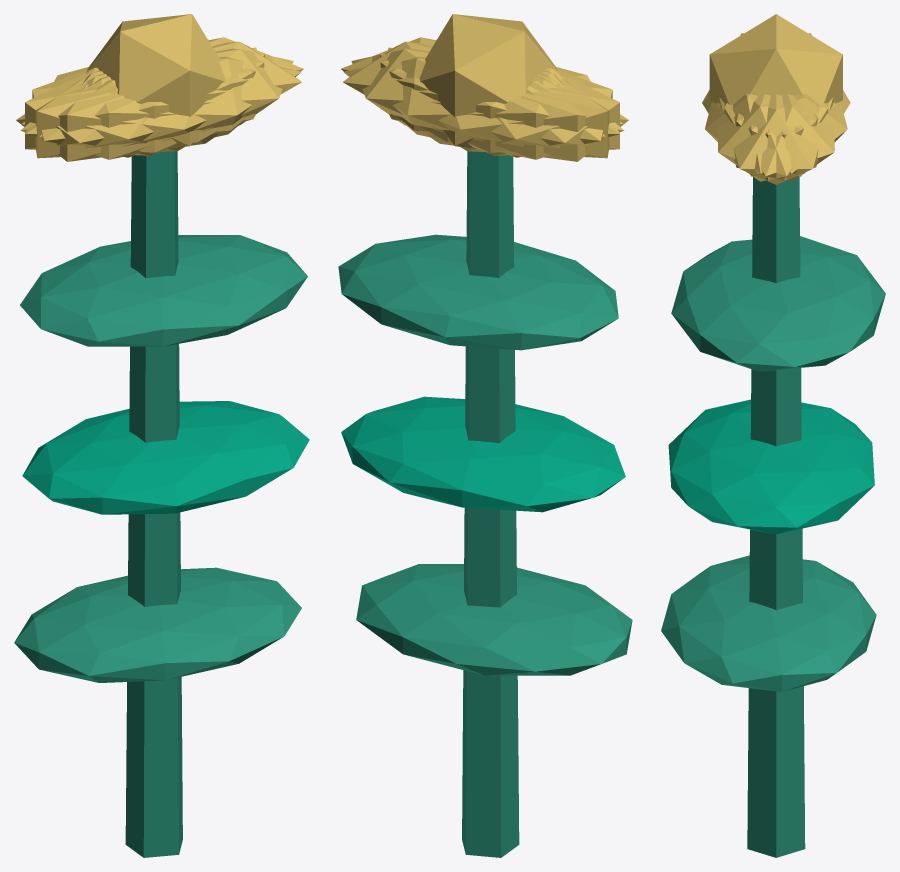
Rendered from callisia-fragrans.glb.
The picture shows the model from 3 angles, left to right: view 1: azimuth 30°, elevation 25°; view 2: azimuth 150°, elevation 25°; view 3: azimuth 270°, elevation 25°; orthographic projection.
Parts seen in each view (by area): view 1: stem, leaf0, leaf2, leaf1, center, petal1, petal6, petal2, petal5, petal7, petal0, petal4 (+2 smaller); view 2: stem, leaf2, leaf1, leaf0, center, petal8, petal3, petal7, petal4, petal2, petal0, petal5 (+2 smaller); view 3: stem, leaf2, leaf1, leaf0, center, petal0, petal5, petal4, petal8, petal1.
Boxes of the visible parts, left/top/right/bottom form: stem: left=125, top=151, right=182, bottom=857; leaf0: left=14, top=567, right=301, bottom=682; leaf2: left=20, top=235, right=307, bottom=346; leaf1: left=22, top=401, right=309, bottom=514; center: left=87, top=14, right=225, bottom=148; petal1: left=20, top=56, right=300, bottom=159; petal6: left=16, top=69, right=219, bottom=161; petal2: left=35, top=47, right=256, bottom=158; petal5: left=39, top=48, right=293, bottom=152; petal7: left=25, top=53, right=264, bottom=155; petal0: left=86, top=41, right=301, bottom=142; petal4: left=22, top=37, right=303, bottom=134; stem: left=462, top=151, right=519, bottom=857; leaf2: left=338, top=234, right=618, bottom=350; leaf1: left=341, top=396, right=625, bottom=512; leaf0: left=356, top=564, right=632, bottom=675; center: left=419, top=14, right=557, bottom=148; petal8: left=344, top=56, right=624, bottom=159; petal3: left=425, top=69, right=628, bottom=161; petal7: left=388, top=47, right=609, bottom=158; petal4: left=351, top=48, right=605, bottom=152; petal2: left=380, top=53, right=619, bottom=155; petal0: left=343, top=41, right=558, bottom=142; petal5: left=341, top=37, right=622, bottom=134; stem: left=747, top=177, right=805, bottom=857; leaf2: left=671, top=236, right=885, bottom=371; leaf1: left=668, top=399, right=874, bottom=534; leaf0: left=661, top=555, right=876, bottom=691; center: left=709, top=14, right=842, bottom=104; petal0: left=719, top=94, right=833, bottom=184; petal5: left=717, top=94, right=828, bottom=181; petal4: left=724, top=94, right=834, bottom=181; petal8: left=734, top=94, right=847, bottom=173; petal1: left=705, top=94, right=818, bottom=173.
Bounding box in the file's own units: 0.1452 × 0.4131 × 0.1035.
